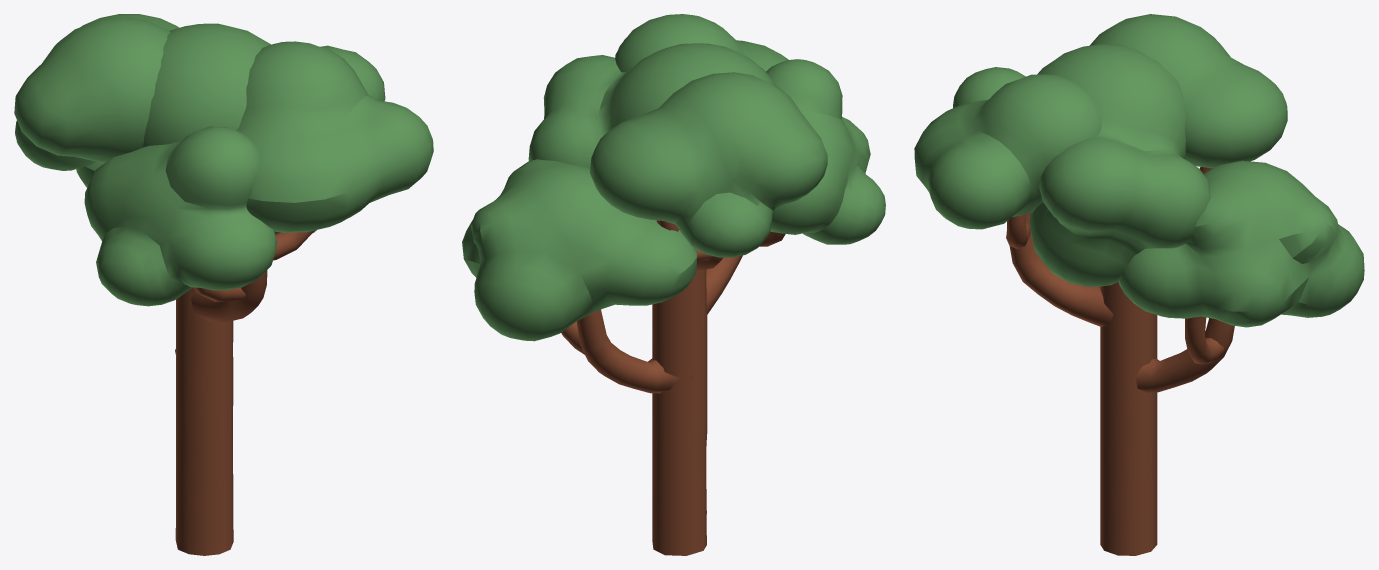
Rendered from Round Tree.fbx.
3 renders of one model, left to right at view 1: azimuth 30°, elevation 25°; view 2: azimuth 150°, elevation 25°; view 3: azimuth 270°, elevation 25°, orthographic. The views are drawn at different scales.
Parts seen in each view (by area): view 1: Retopo_Bough01.004, Retopo_Bough04.003, Retopo_Bough05.003, Retopo_Trunk.005, Retopo_Bough02.004; view 2: Retopo_Bough05.003, Retopo_Bough03.004, Retopo_Trunk.005, Retopo_Bough02.004, Retopo_Bough04.003, Retopo_Bough01.004; view 3: Retopo_Bough02.004, Retopo_Bough03.004, Retopo_Trunk.005, Retopo_Bough01.004, Retopo_Bough05.003, Retopo_Bough04.003.
Part boxes in pixels (x1=…): Retopo_Bough01.004: x1=236, y1=41, x2=433, y2=232; Retopo_Bough04.003: x1=84, y1=126, x2=277, y2=306; Retopo_Bough05.003: x1=14, y1=14, x2=178, y2=170; Retopo_Trunk.005: x1=175, y1=230, x2=313, y2=555; Retopo_Bough02.004: x1=142, y1=23, x2=385, y2=233; Retopo_Bough05.003: x1=590, y1=72, x2=827, y2=257; Retopo_Bough03.004: x1=462, y1=159, x2=697, y2=341; Retopo_Trunk.005: x1=561, y1=220, x2=785, y2=555; Retopo_Bough02.004: x1=528, y1=43, x2=775, y2=168; Retopo_Bough04.003: x1=766, y1=59, x2=885, y2=244; Retopo_Bough01.004: x1=615, y1=14, x2=788, y2=72; Retopo_Bough02.004: x1=1029, y1=44, x2=1210, y2=286; Retopo_Bough03.004: x1=1118, y1=160, x2=1364, y2=327; Retopo_Trunk.005: x1=1006, y1=167, x2=1234, y2=555; Retopo_Bough01.004: x1=914, y1=74, x2=1101, y2=229; Retopo_Bough05.003: x1=1090, y1=14, x2=1287, y2=168; Retopo_Bough04.003: x1=953, y1=67, x2=1025, y2=107.
Size of the model in its own units: 237 by 363 by 302.
